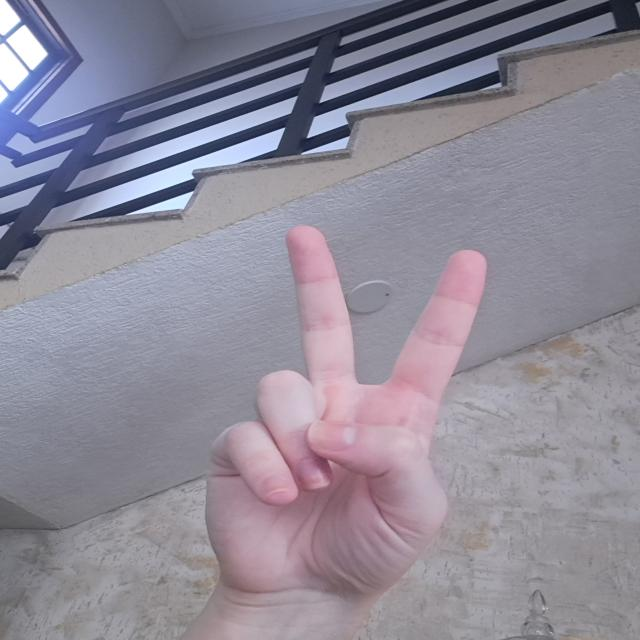V: (183, 214, 494, 608)
